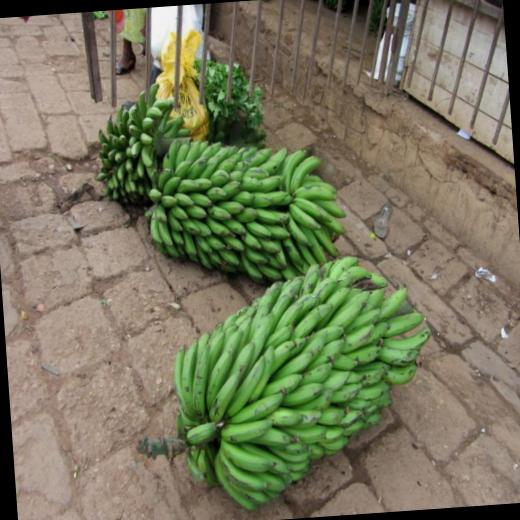Banana: (90, 64, 441, 520), (224, 386, 288, 424)
